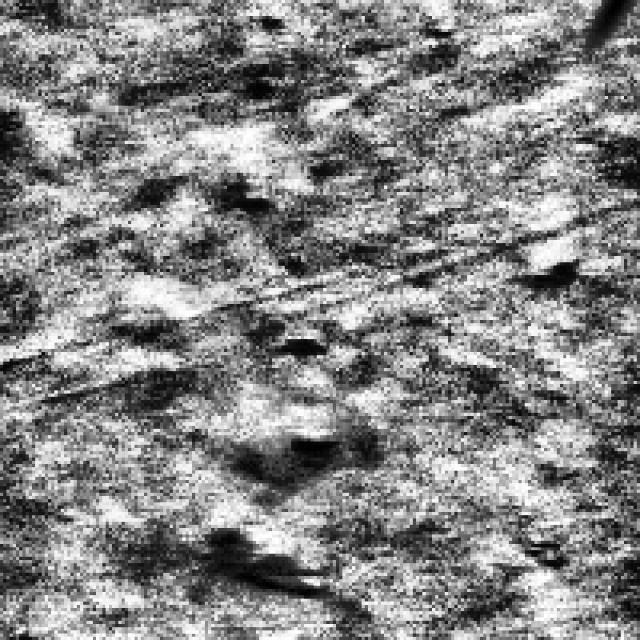Crazing: (176, 298, 346, 612), (500, 208, 582, 298)
